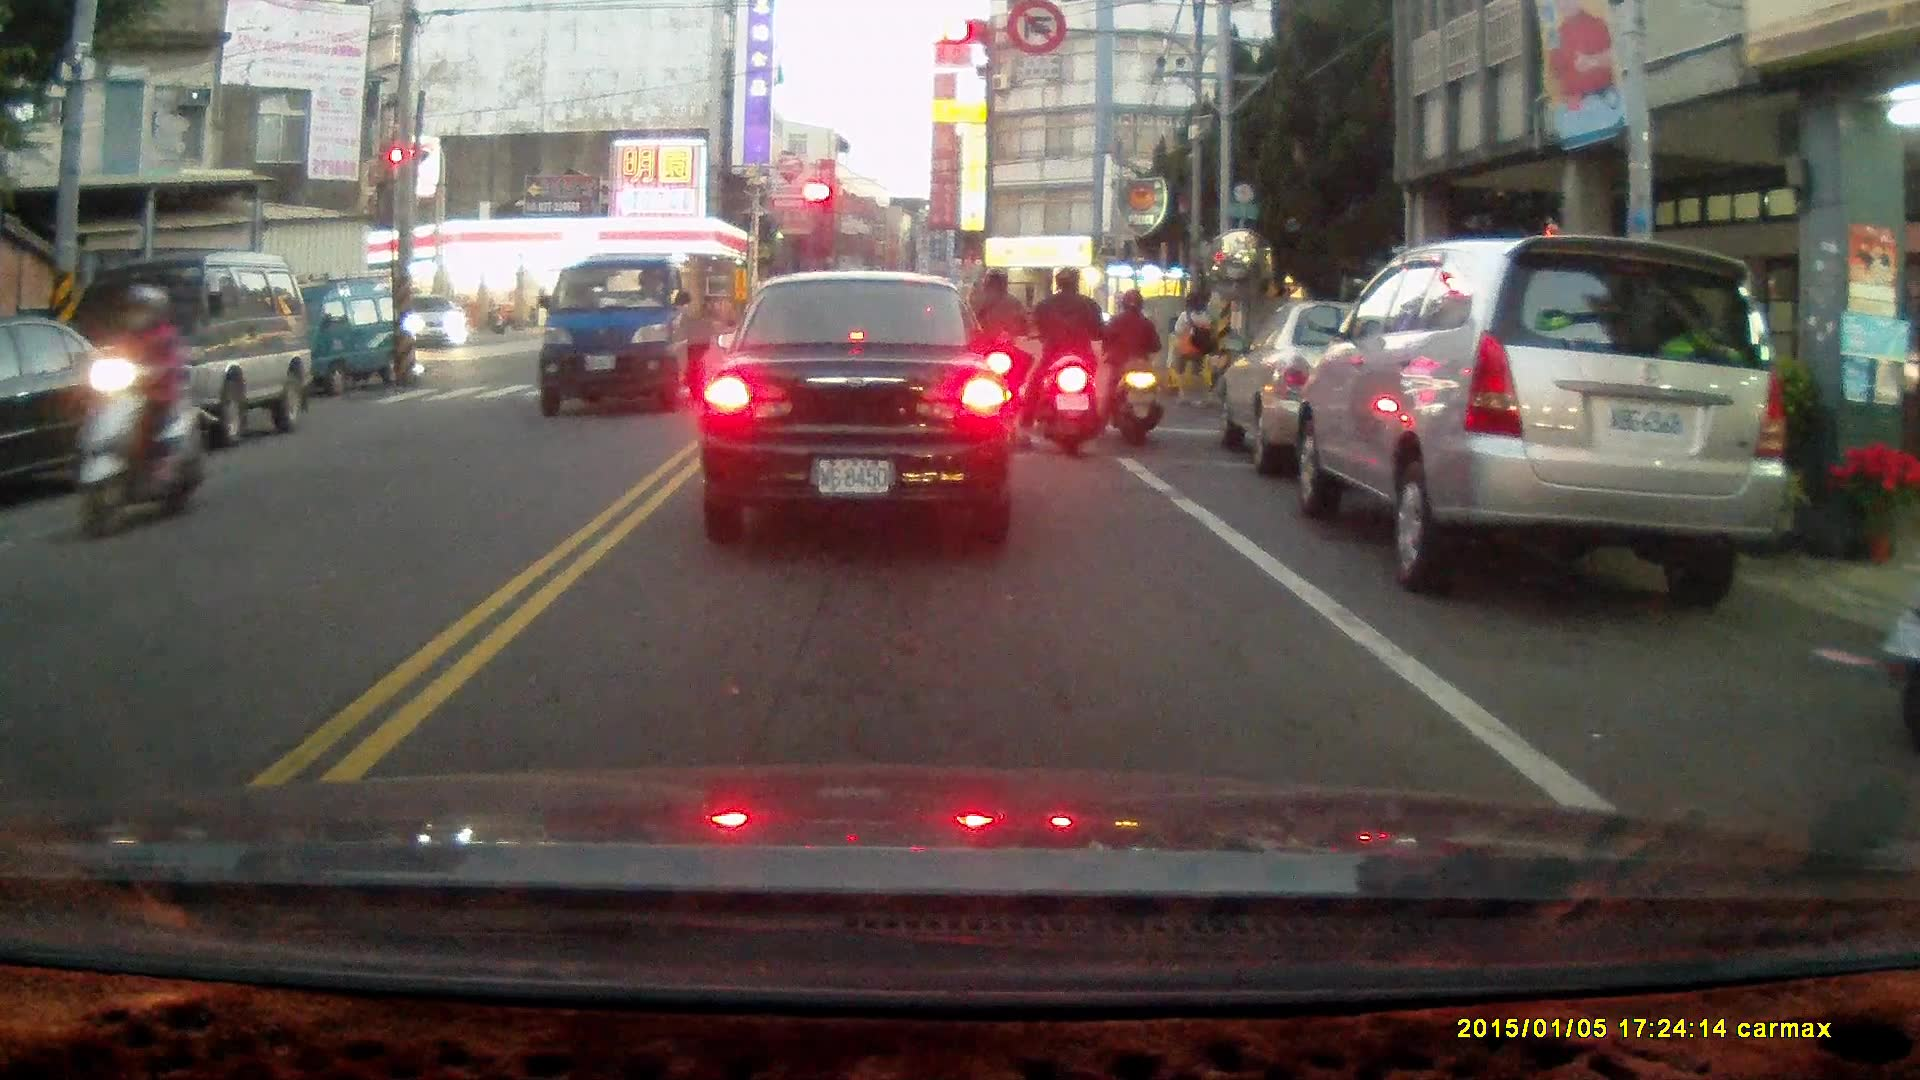pedestrian: (1162, 290, 1218, 411)
rider: (75, 284, 207, 544), (1020, 265, 1111, 458), (961, 267, 1028, 437), (1098, 288, 1163, 448)
vehicle: (1295, 231, 1793, 602), (699, 273, 1020, 541), (64, 243, 311, 447), (1220, 300, 1474, 482), (1, 313, 160, 504), (538, 257, 709, 409), (272, 272, 422, 401)
